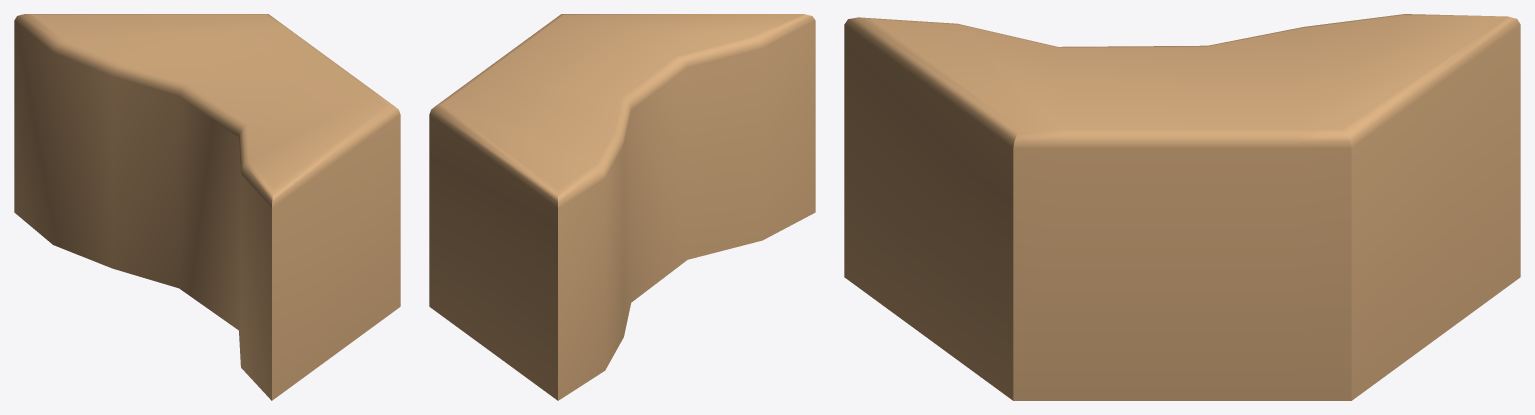
The model's file is hex_sand_waterC_empty.glb.
3 views of the same model, side by side, from view 1: azimuth 30°, elevation 25°; view 2: azimuth 150°, elevation 25°; view 3: azimuth 270°, elevation 25° (orthographic). The views are drawn at different scales.
Visible parts, largest first — view 1: hex_sand_waterC_empty; view 2: hex_sand_waterC_empty; view 3: hex_sand_waterC_empty.
Part boxes in pixels (box(x1,y1,x2,y2)): hex_sand_waterC_empty: box(14, 14, 400, 400); hex_sand_waterC_empty: box(429, 14, 815, 400); hex_sand_waterC_empty: box(844, 14, 1520, 400).
Bounding box in the file's own units: 1.02 × 1 × 2.31.
